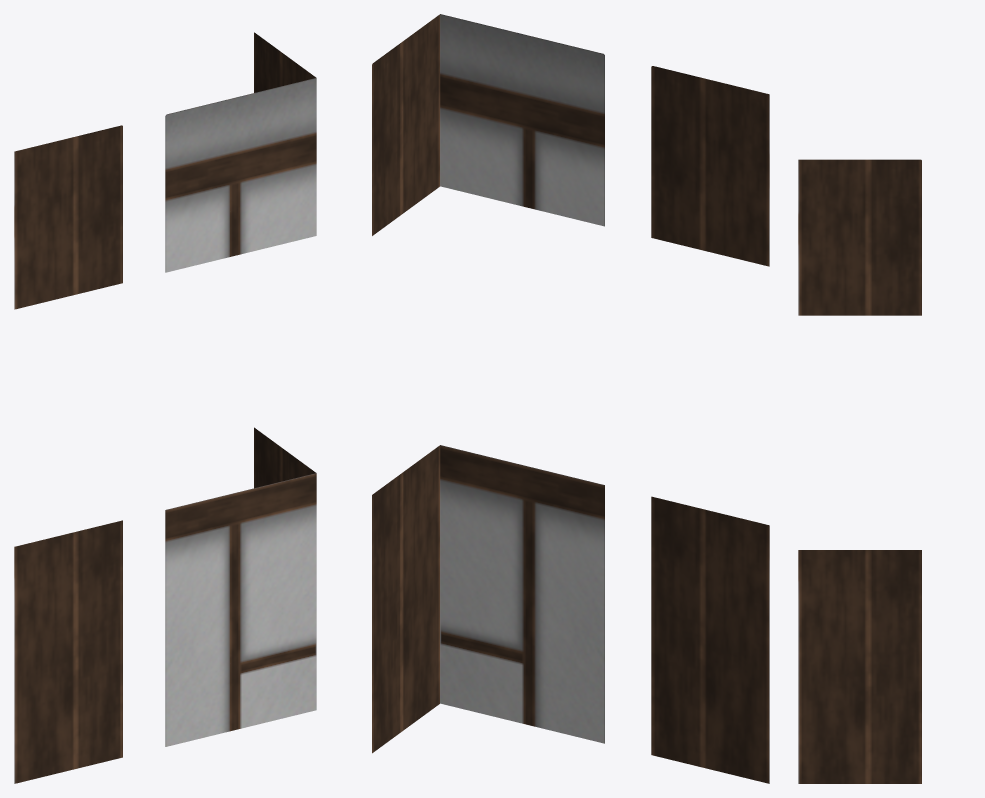
Rendered from house_wall_window_b_corner_2_inside.fbx.
3 views of the same model, side by side, from view 1: azimuth 30°, elevation 25°; view 2: azimuth 150°, elevation 25°; view 3: azimuth 270°, elevation 25° (orthographic). The views are drawn at different scales.
Visible parts, largest first — view 1: house_wall_window_b_corner_2_inside; view 2: house_wall_window_b_corner_2_inside; view 3: house_wall_window_b_corner_2_inside.
Part boxes in pixels (x1,y1,x2,y2): house_wall_window_b_corner_2_inside: (14,32,316,783); house_wall_window_b_corner_2_inside: (372,14,769,783); house_wall_window_b_corner_2_inside: (798,159,921,783).
Size of the model in its own units: 200 by 400 by 100.
